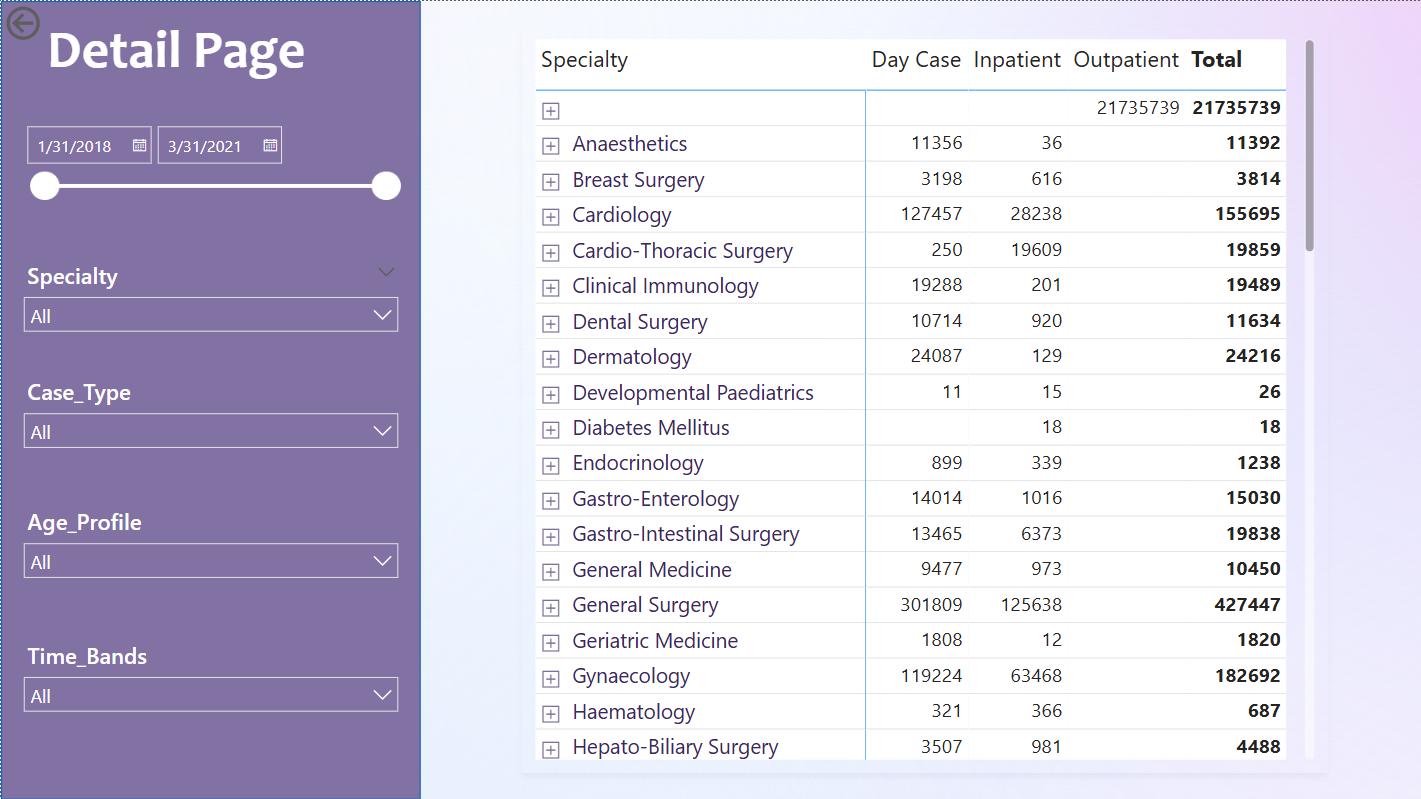

The dashboard page shown, as its layout file describes it:
{"tool":"powerbi","page":{"name":"detail","canvas":[1280,720],"ordinal":1},"visuals":[{"type":"shape","box":[0,0,378.5,720.2],"z":0},{"type":"slicer","fields":{"Values":["All_Data.Case_Type"]},"box":[15.6,338.6,347,75.6],"z":1000},{"type":"slicer","fields":{"Values":["All_Data.Archive_Date"]},"box":[15.7,108.6,347.5,83.2],"z":2000},{"type":"slicer","fields":{"Values":["Mapping_Specialty.Specialty"]},"box":[15.6,232.9,347,79.2],"z":3000},{"type":"textbox","box":[0,8.9,316.1,79],"z":4000},{"type":"slicer","fields":{"Values":["All_Data.Age_Profile"]},"box":[15.6,455.1,347,82.9],"z":5000},{"type":"slicer","fields":{"Values":["All_Data.Time_Bands"]},"box":[15.6,576.4,347,76.8],"z":6000},{"type":"pivotTable","fields":{"Columns":["All_Data.Case_Type"],"Rows":["Mapping_Specialty.Specialty","All_Data.Age_Profile","All_Data.Time_Bands","All_Data.Archive_Date"],"Values":["Sum(All_Data.Total)"]},"box":[469.5,22.8,726.5,673.6],"z":7000},{"type":"actionButton","box":[0,0,100,40],"z":7001}]}

Visuals, with their boxes in screenshot pixels (x1, y1, x2, y2), scaled from the page's 1280x720 canvas onto the 1421x799 screenshot:
shape: bbox=(0, 0, 420, 798)
slicer - All_Data.Case_Type: bbox=(17, 376, 403, 460)
slicer - All_Data.Archive_Date: bbox=(17, 121, 403, 213)
slicer - Mapping_Specialty.Specialty: bbox=(17, 258, 403, 346)
textbox: bbox=(0, 10, 351, 98)
slicer - All_Data.Age_Profile: bbox=(17, 505, 403, 597)
slicer - All_Data.Time_Bands: bbox=(17, 640, 403, 725)
pivotTable - All_Data.Case_Type x Mapping_Specialty.Specialty: bbox=(521, 25, 1328, 773)
actionButton: bbox=(0, 0, 111, 44)
